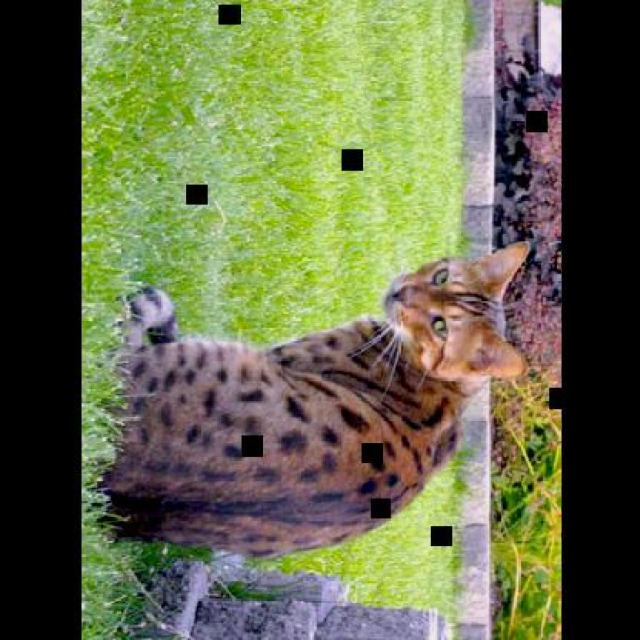unauthorized: (97, 240, 531, 560)
